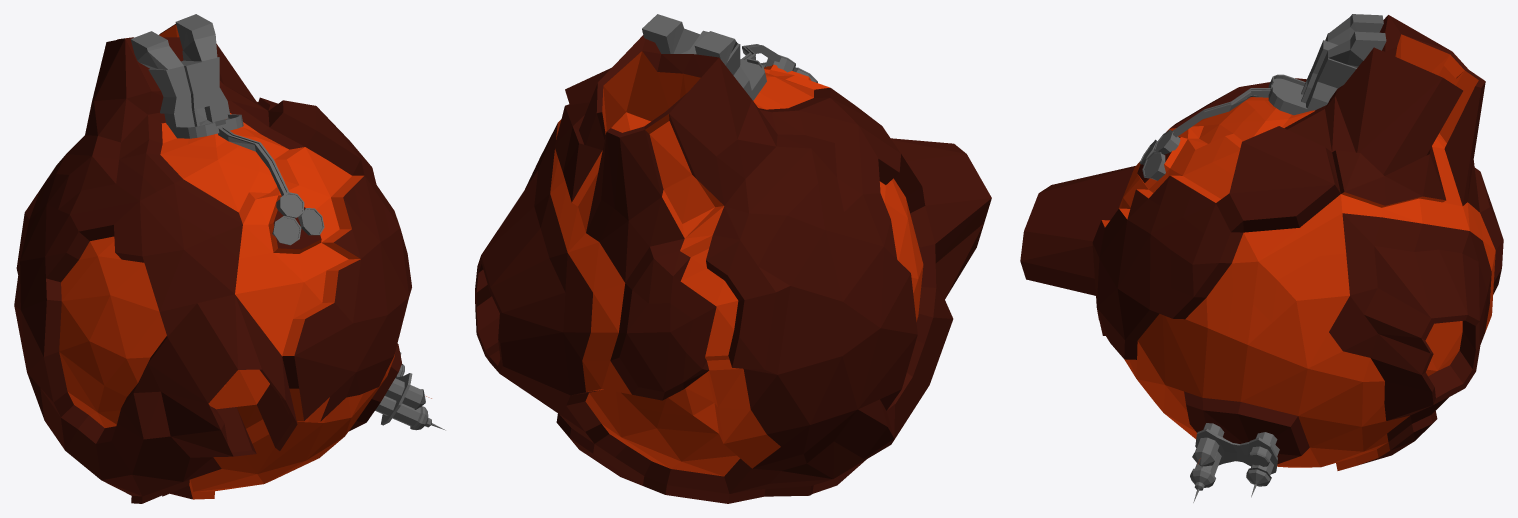
The model's file is mustafar_zoom.dae.
The picture shows the model from 3 angles, left to right: view 1: azimuth 30°, elevation 25°; view 2: azimuth 150°, elevation 25°; view 3: azimuth 270°, elevation 25°; orthographic projection. The views are drawn at different scales.
Visible parts, largest first — view 1: Circle_001; view 2: Circle_001; view 3: Circle_001.
Part boxes in pixels (left/top/right/bottom): Circle_001: left=14, top=14, right=445, bottom=503; Circle_001: left=475, top=14, right=991, bottom=503; Circle_001: left=1020, top=14, right=1503, bottom=502.
Size of the model in its own units: 6.38 by 7.44 by 7.38.
